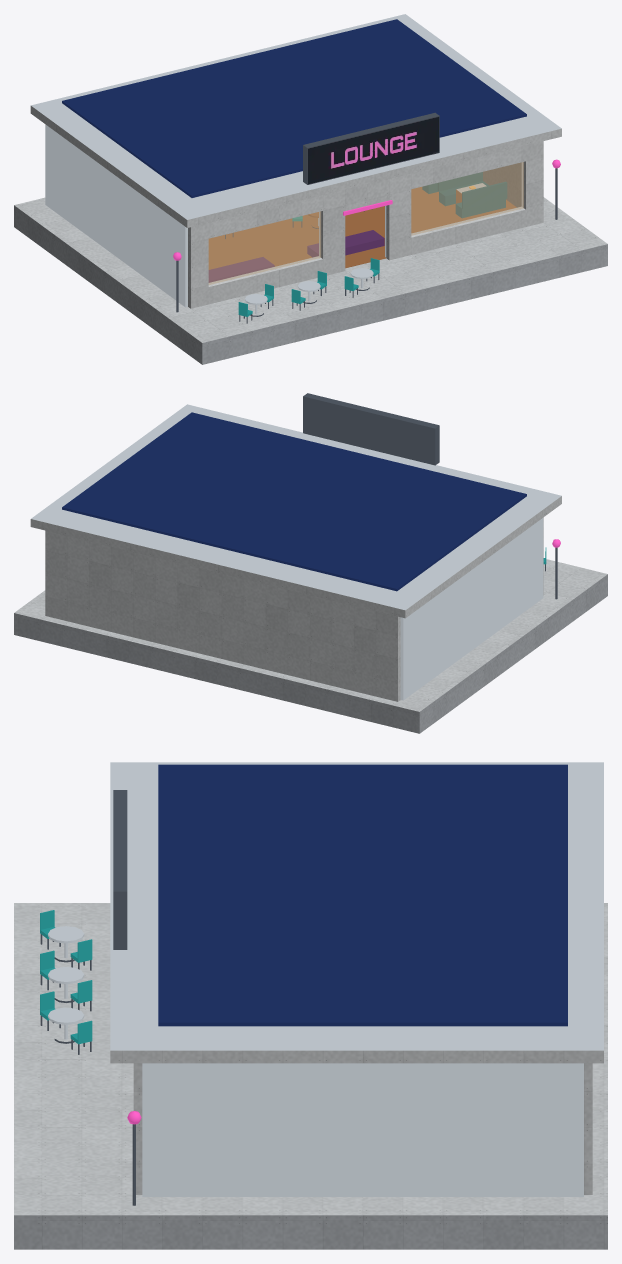
Rendered from skyline_lounge.glb.
3 views of the same model, one above another, from view 1: azimuth 30°, elevation 25°; view 2: azimuth 150°, elevation 25°; view 3: azimuth 270°, elevation 25° (orthographic). The views are drawn at different scales.
Parts seen in each view (by area): view 1: skyline_lounge_LOD0; view 2: skyline_lounge_LOD0; view 3: skyline_lounge_LOD0.
Part boxes in pixels (x1=…): skyline_lounge_LOD0: x1=14, y1=14, x2=607, y2=364; skyline_lounge_LOD0: x1=14, y1=393, x2=607, y2=733; skyline_lounge_LOD0: x1=14, y1=762, x2=607, y2=1249.
Size of what is drawn, in the model's own units: 18.4 by 6.95 by 14.8.
Materials: 3 (2 with a texture image).
